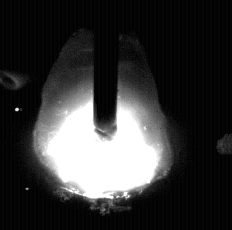arame: (94, 0, 119, 141)
poca: (32, 0, 170, 230)
